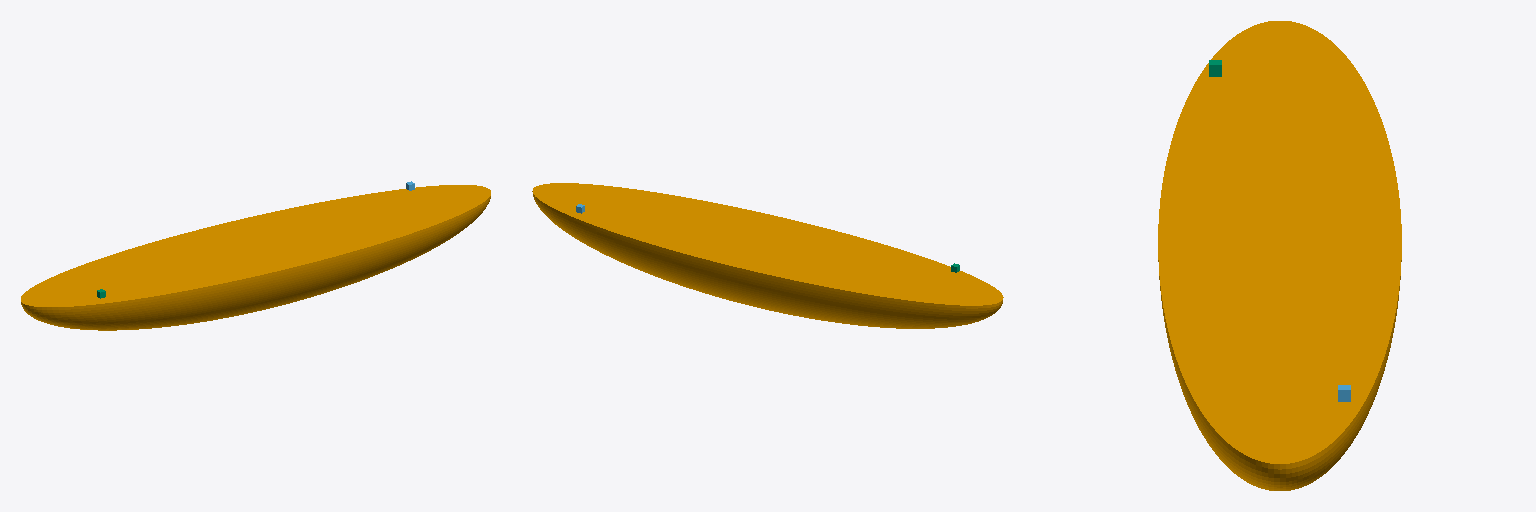
URDF robot description (half_ellipse):
<robot name="half_ellipse">
  <link name="half_ellipse">
    <inertial>
      <origin xyz="0 0 -0.07" /> 
      <mass value="1.0" />
      <inertia  ixx="0.1" ixy="0.0"  ixz="0.0"  iyy="0.2"  iyz="0.0"  izz="0.2" />
    </inertial>
    <visual>
      <origin xyz="0 0 0"/>
      <geometry>
        <mesh filename="package://gazebo_worlds/Media/models/half_ellipse.stl" scale="0.1 0.1 0.1" />
      </geometry>
    </visual>
    <collision>
      <origin xyz="0 0 0"/>
      <geometry>
        <mesh filename="package://gazebo_worlds/Media/models/half_ellipse.stl" scale="0.1 0.1 0.1" />
      </geometry>
    </collision>
  </link>
  <gazebo reference="half_ellipse">
    <material value="Gazebo/Red"/>
  </gazebo>
<!-- use additional masses to create inertia offsets -->
  <link name="mass1">
    <inertial>
      <origin xyz="0 0 0" /> 
      <mass value="0.3" />
      <inertia  ixx="0.01" ixy="0.0"  ixz="0.0"  iyy="0.01"  iyz="0.0"  izz="0.01" />
    </inertial>
    <visual>
      <origin xyz="0 0 0"/>
      <geometry>
        <box size="0.01 0.01 0.01"/>
      </geometry>
    </visual>
    <collision>
      <origin xyz="0 0 0"/>
      <geometry>
        <box size="0.01 0.01 0.01"/>
      </geometry>
    </collision>
  </link>
  <joint name="mass1_joint" type="continuous">
    <parent link="half_ellipse" />
    <child link="mass1" />
    <origin xyz="0.3 0.05 0.01" rpy="0 0 0" />
  </joint>
  <link name="mass2">
    <inertial>
      <origin xyz="0 0 0" /> 
      <mass value="0.3" />
      <inertia  ixx="0.01" ixy="0.0"  ixz="0.0"  iyy="0.01"  iyz="0.0"  izz="0.01" />
    </inertial>
    <visual>
      <origin xyz="0 0 0"/>
      <geometry>
        <box size="0.01 0.01 0.01"/>
      </geometry>
    </visual>
    <collision>
      <origin xyz="0 0 0"/>
      <geometry>
        <box size="0.01 0.01 0.01"/>
      </geometry>
    </collision>
  </link>
  <joint name="mass2_joint" type="continuous">
    <parent link="half_ellipse" />
    <child link="mass2" />
    <origin xyz="-0.3 -0.05 0.01" rpy="0 0 0" />
  </joint>
</robot>

--- Facts derived from the render (not from the file) ---
Views: 3 orthographic renders of the robot side by side, from view 1: azimuth 30°, elevation 25°; view 2: azimuth 150°, elevation 25°; view 3: azimuth 270°, elevation 25°.
Model half_ellipse with 3 links and 2 joints (2 continuous), rooted at half_ellipse, posed every joint at zero.
Links seen in each view (by area): view 1: half_ellipse; view 2: half_ellipse; view 3: half_ellipse.
Boxes of the visible links, x1=… form: half_ellipse: x1=21, y1=185, x2=490, y2=330; half_ellipse: x1=532, y1=183, x2=1003, y2=328; half_ellipse: x1=1158, y1=21, x2=1401, y2=490.
Size in the robot's own frame: 0.8187 by 0.1901 by 0.1136 metres.
Meshes: 1 distinct files referenced, 1 mesh visuals loaded (1 binary STL).
